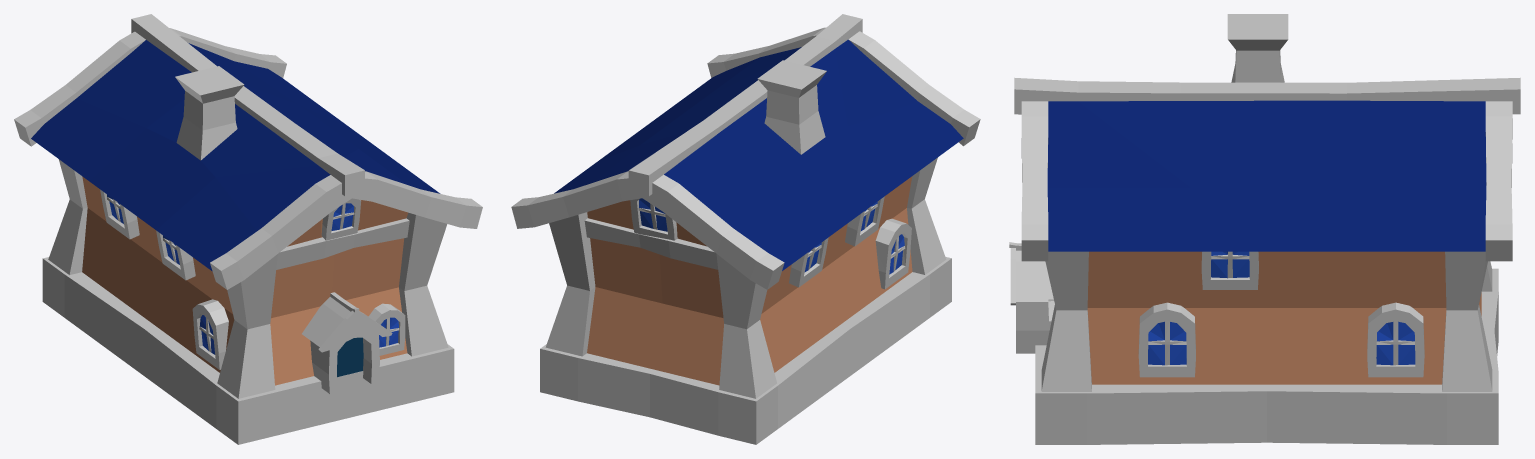
The model's file is LowPolyHouse.obj.
3 renders of one model, left to right at view 1: azimuth 30°, elevation 25°; view 2: azimuth 150°, elevation 25°; view 3: azimuth 270°, elevation 25°, orthographic. The views are drawn at different scales.
Parts seen in each view (by area): view 1: House_Cube, DoorFrame_Cube.011, Windows_Cube.008, Window6_Cube.007, Window4_Cube.004, Window5_Cube.006, Door_Cube.012; view 2: House_Cube, Window6_Cube.007, Window3_Cube.003, Window4_Cube.004, Window5_Cube.006; view 3: House_Cube, Window2_Cube.002, Window1_Cube.001, DoorFrame_Cube.011, Window1.005_Cube.017.
Boxes of the visible parts, <box> form: House_Cube: <box>14,14,482,444</box>; DoorFrame_Cube.011: <box>302,292,392,393</box>; Windows_Cube.008: <box>321,198,405,355</box>; Window6_Cube.007: <box>192,299,228,369</box>; Window4_Cube.004: <box>156,230,195,280</box>; Window5_Cube.006: <box>100,189,139,239</box>; Door_Cube.012: <box>337,337,363,377</box>; House_Cube: <box>511,14,980,444</box>; Window6_Cube.007: <box>875,218,911,289</box>; Window3_Cube.003: <box>630,198,677,240</box>; Window4_Cube.004: <box>845,196,884,246</box>; Window5_Cube.006: <box>789,237,828,287</box>; House_Cube: <box>1014,14,1520,444</box>; Window2_Cube.002: <box>1367,302,1424,377</box>; Window1_Cube.001: <box>1138,302,1195,377</box>; DoorFrame_Cube.011: <box>1009,242,1053,353</box>; Window1.005_Cube.017: <box>1201,251,1258,289</box>.
Bounding box in the file's own units: 13.47 × 13.75 × 19.23.
